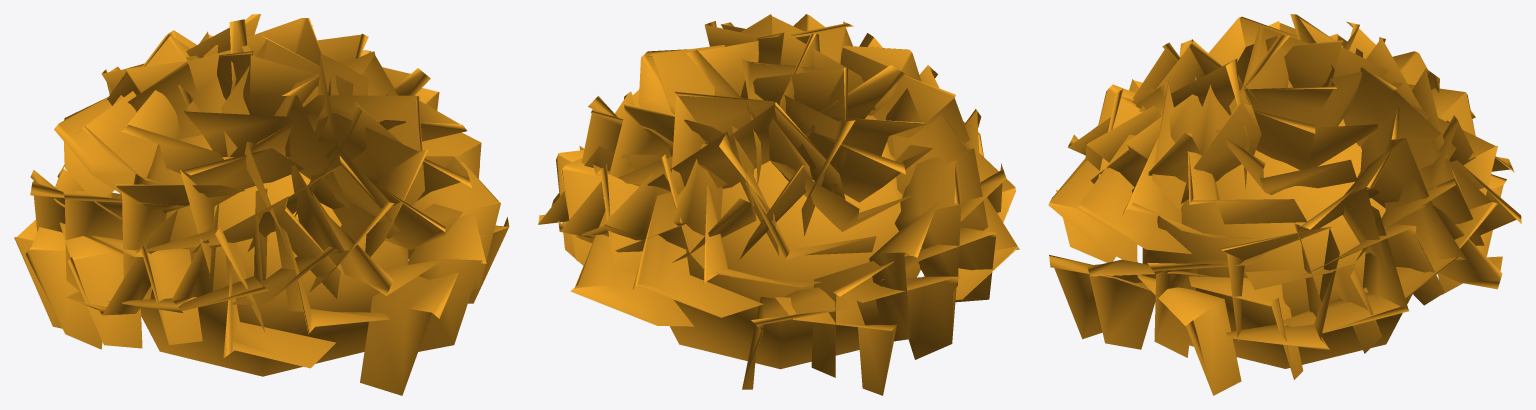
The model's file is marigold.glb.
3 views of the same model, side by side, from view 1: azimuth 30°, elevation 25°; view 2: azimuth 150°, elevation 25°; view 3: azimuth 270°, elevation 25° (orthographic). The views are drawn at different scales.
Visible parts, largest first — view 1: marigold; view 2: marigold; view 3: marigold.
Boxes of the visible parts, x1,y1,x2,y2 form: marigold: (14, 14, 509, 395); marigold: (538, 14, 1019, 395); marigold: (1048, 14, 1521, 395).
Size of the model in its own units: 0.1269 by 0.0947 by 0.1265.
